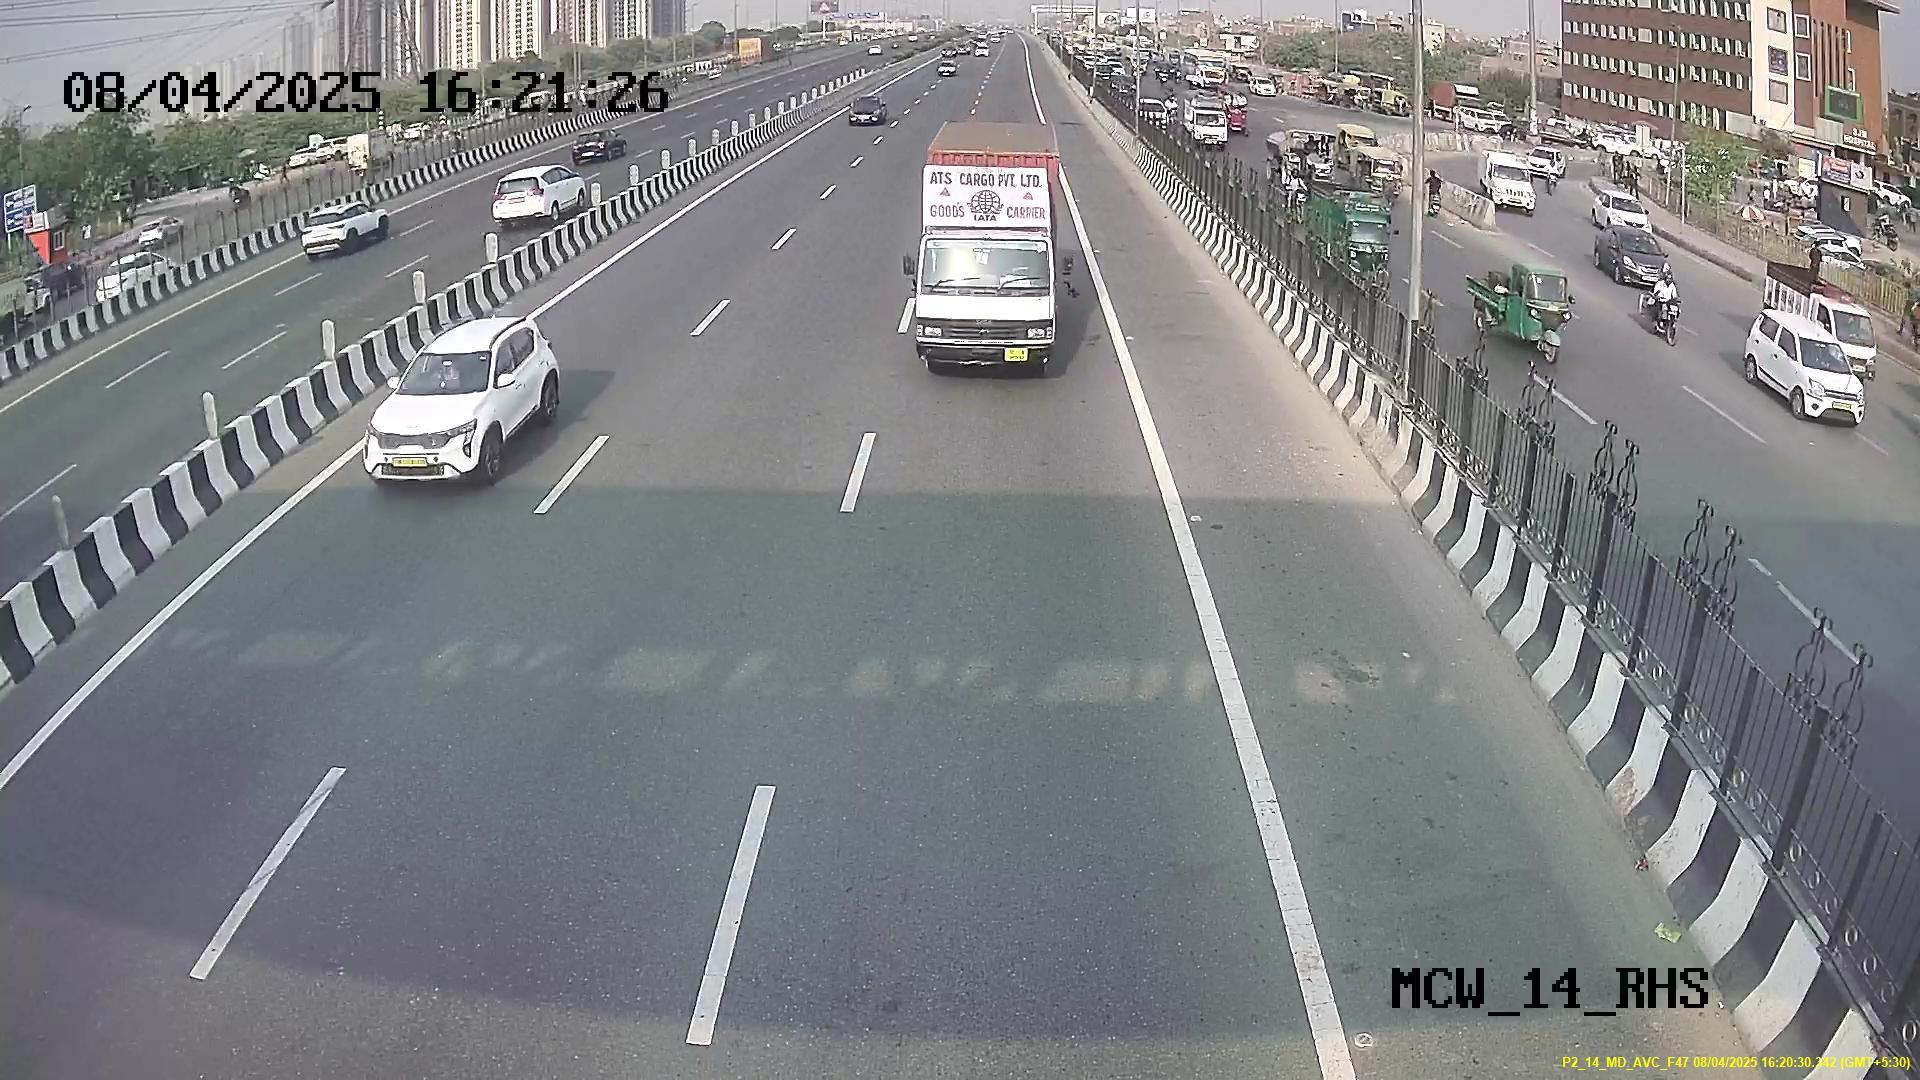car: (363, 315, 531, 493)
lcv: (914, 224, 1059, 373)
